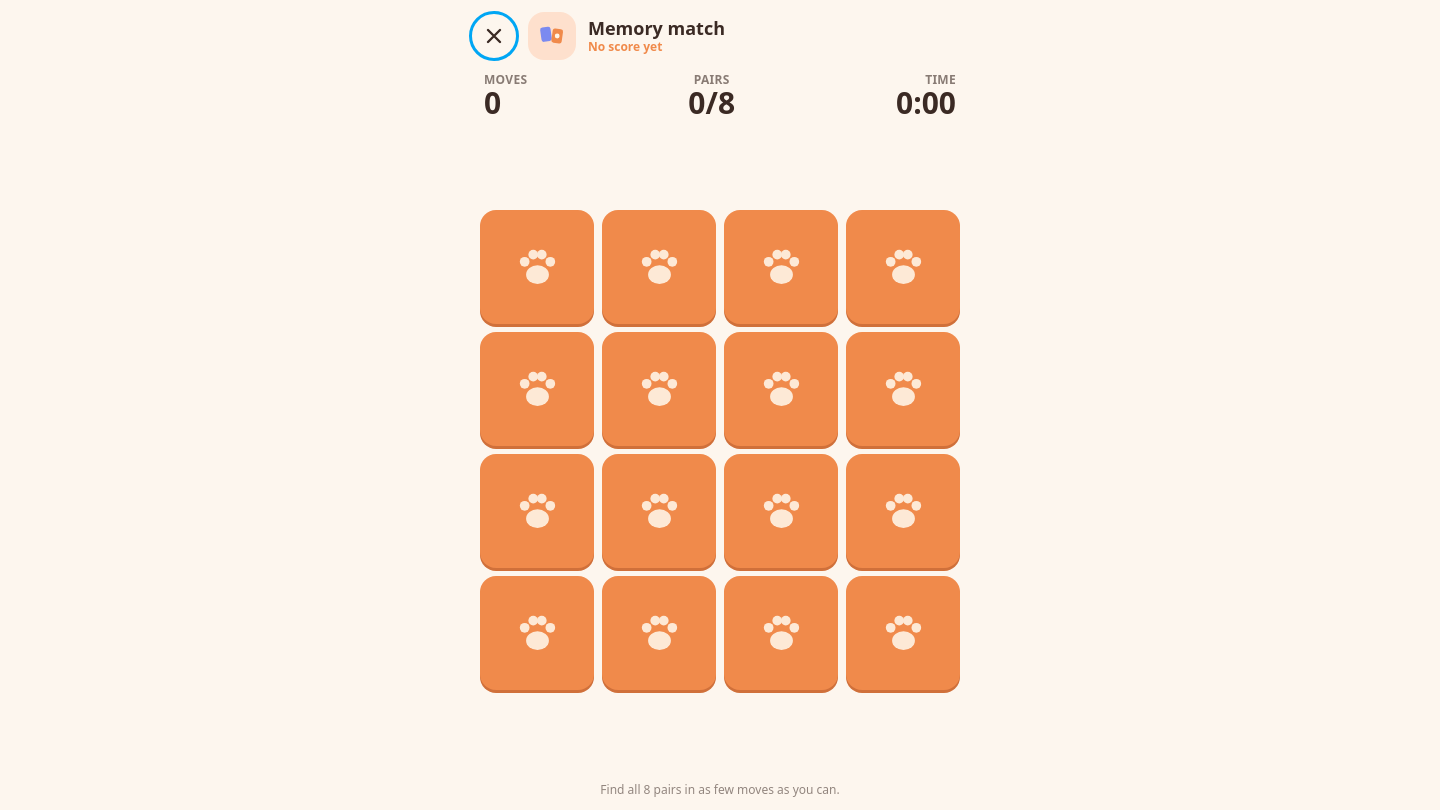
Test: Memory match › runs the clock from the first card
The image size is (1440, 810).
Expected: the text with test id "memory-time" reads "0:00", [896, 82, 956, 123]
Click the button named "Card 1, hidden" at x=537, y=267, box [480, 210, 594, 324]
Wait 3000 ms
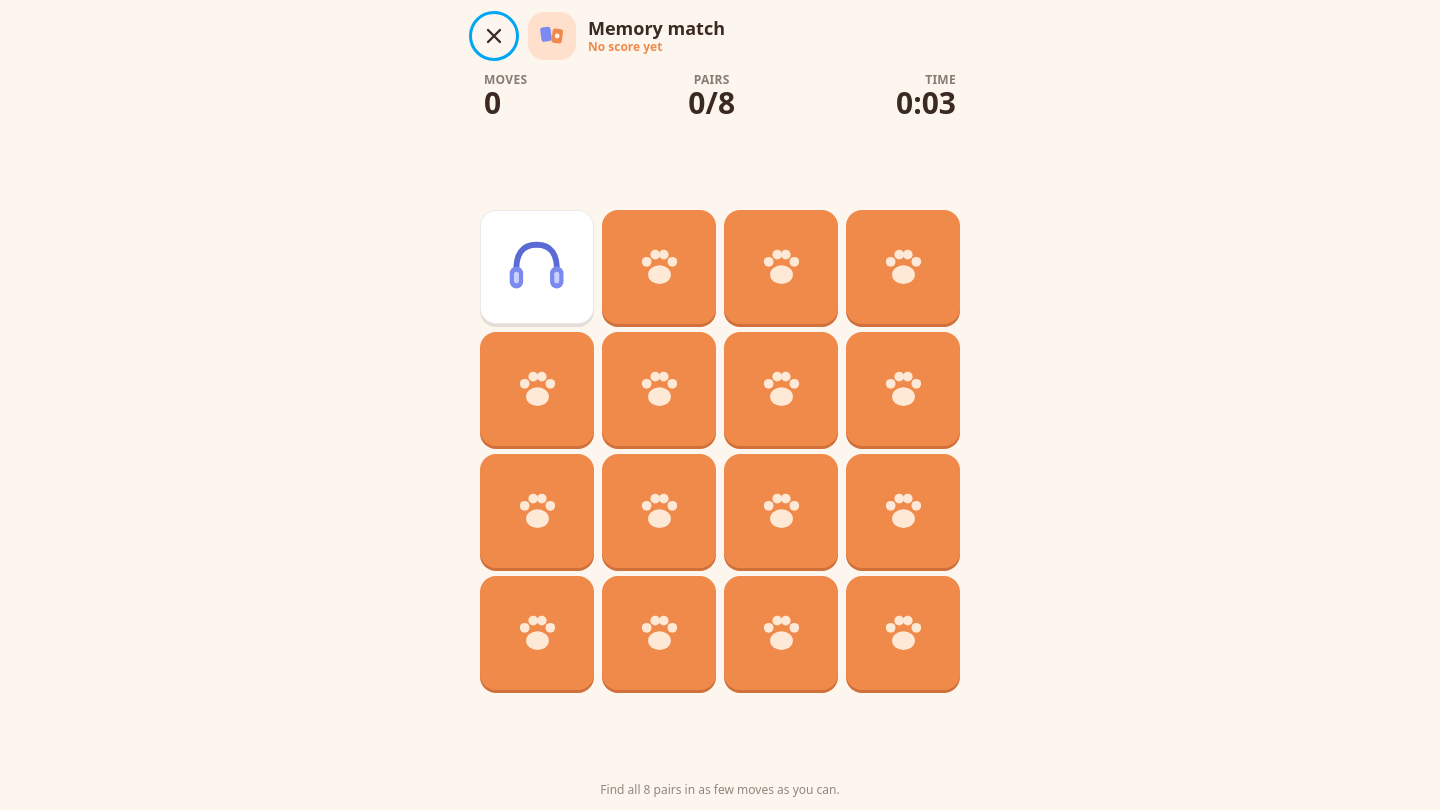
Now the text with test id "memory-time" reads "0:03", box [896, 82, 956, 123]
